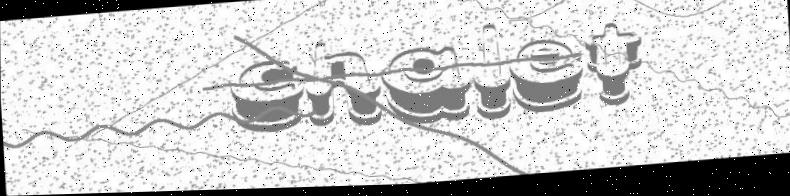a: (378, 45, 473, 129)
c: (226, 57, 304, 137)
e: (507, 37, 586, 119)
h: (303, 39, 382, 132)
l: (469, 24, 512, 125)
t: (583, 22, 645, 111)
